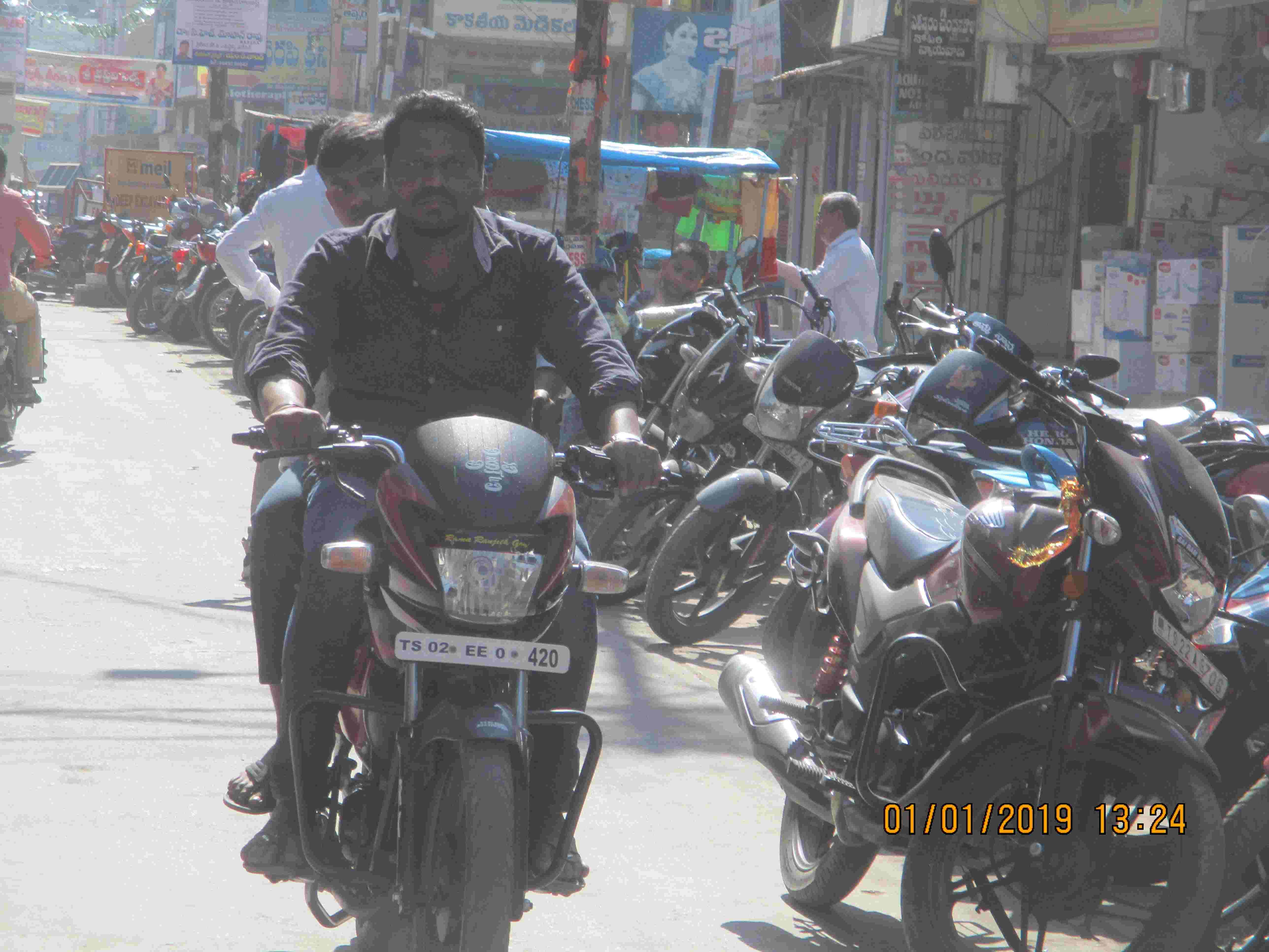plate: (1150, 603, 1233, 712), (393, 628, 573, 677)
